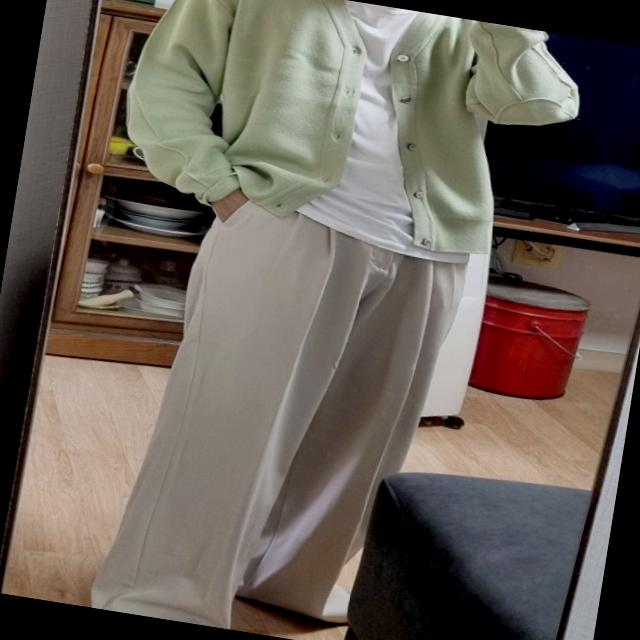cardigan: (107, 0, 587, 271)
slacks: (79, 172, 475, 640)
